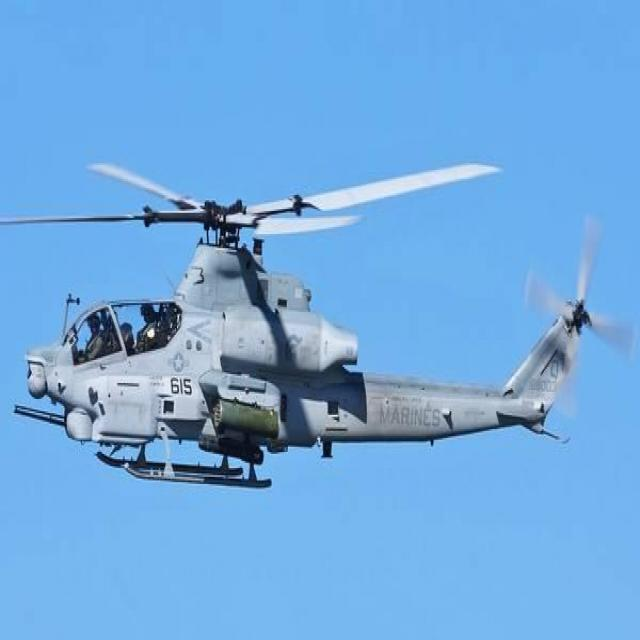MIL_HELO: (0, 135, 633, 509)
